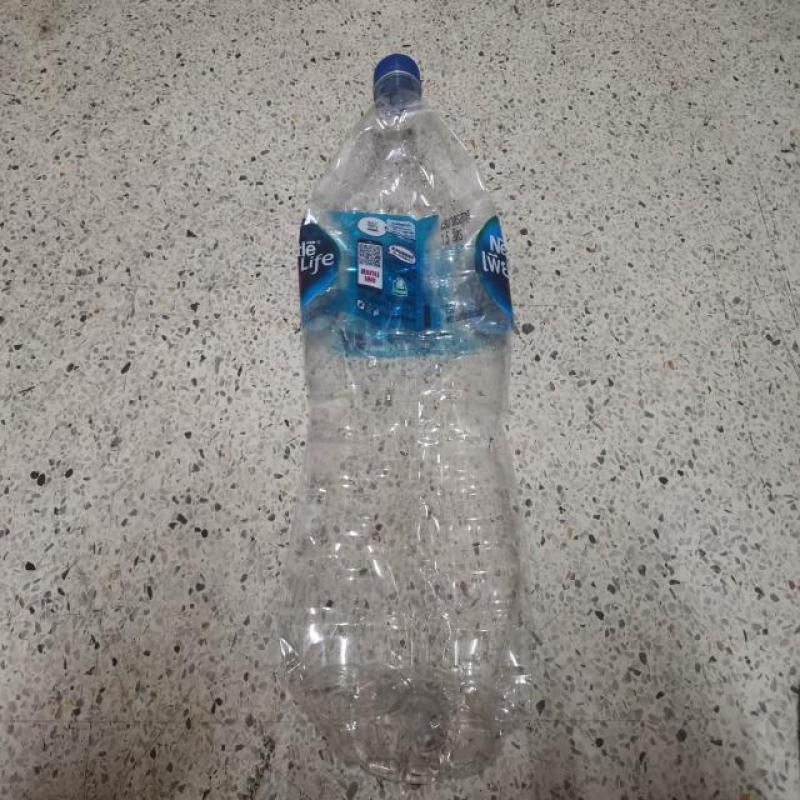botella: (299, 54, 532, 784)
